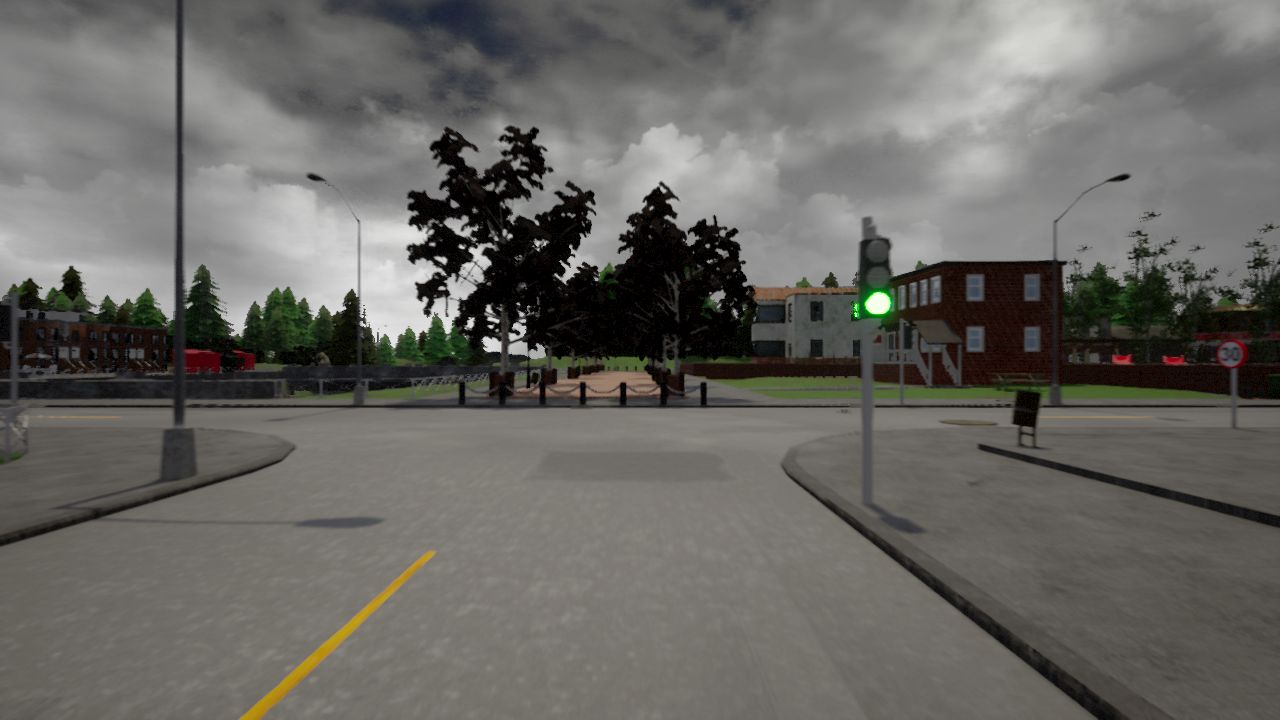green: (854, 238, 899, 321)
